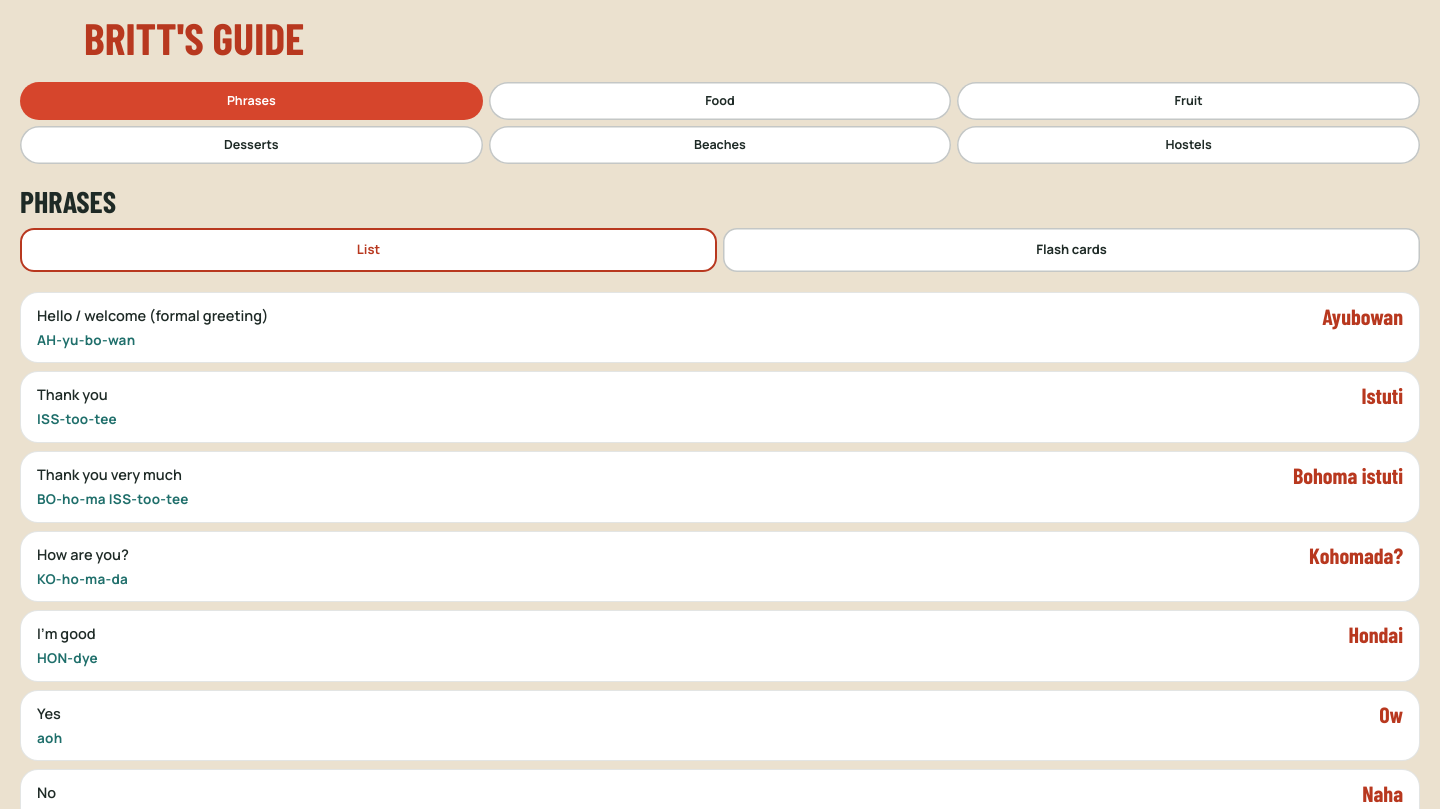
Scenario: Phrase flash cards › survives blocked storage
Click the button "Phrases": (251, 101) 20,82 -> 483,120
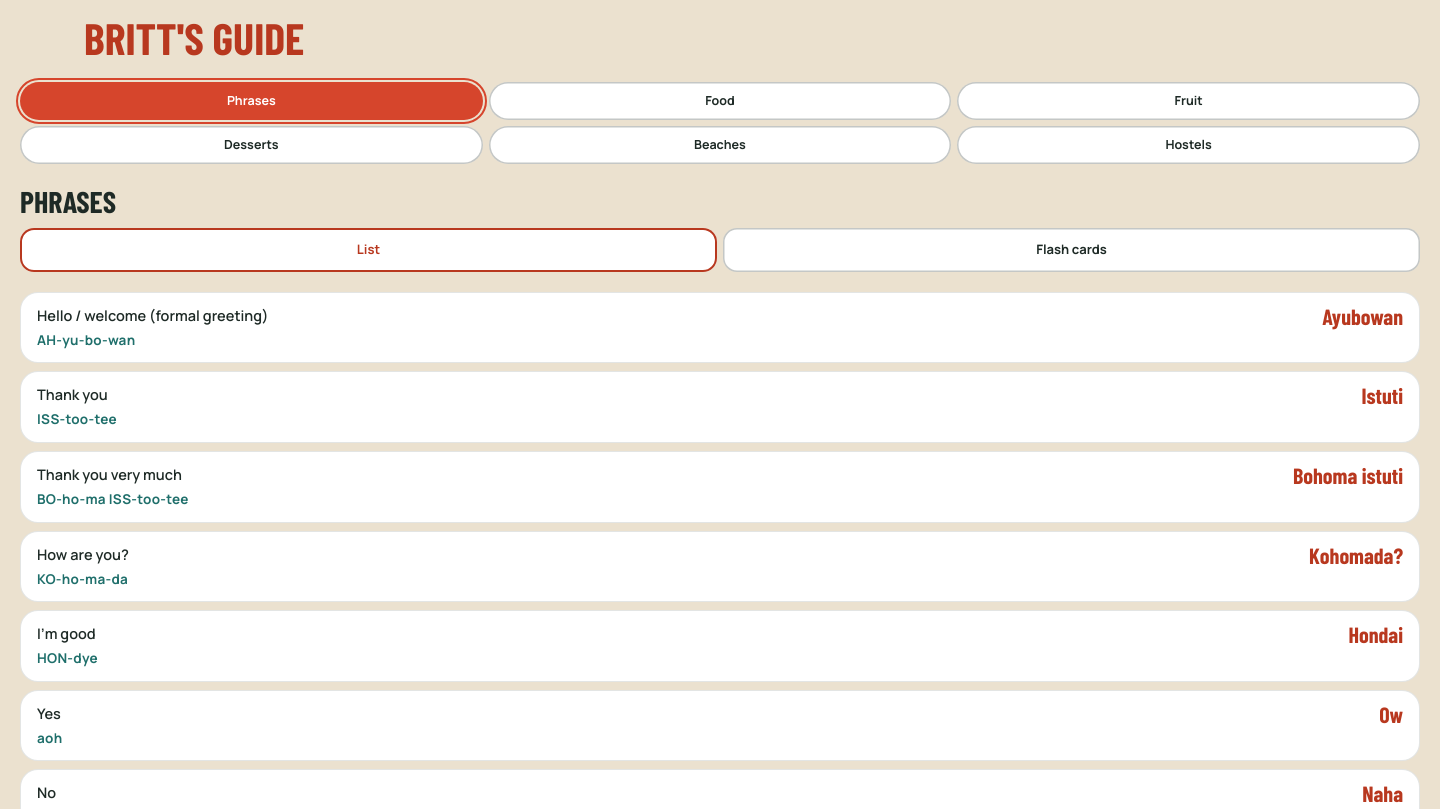
Click the button "Flash cards": (1072, 250) 723,228 -> 1420,272
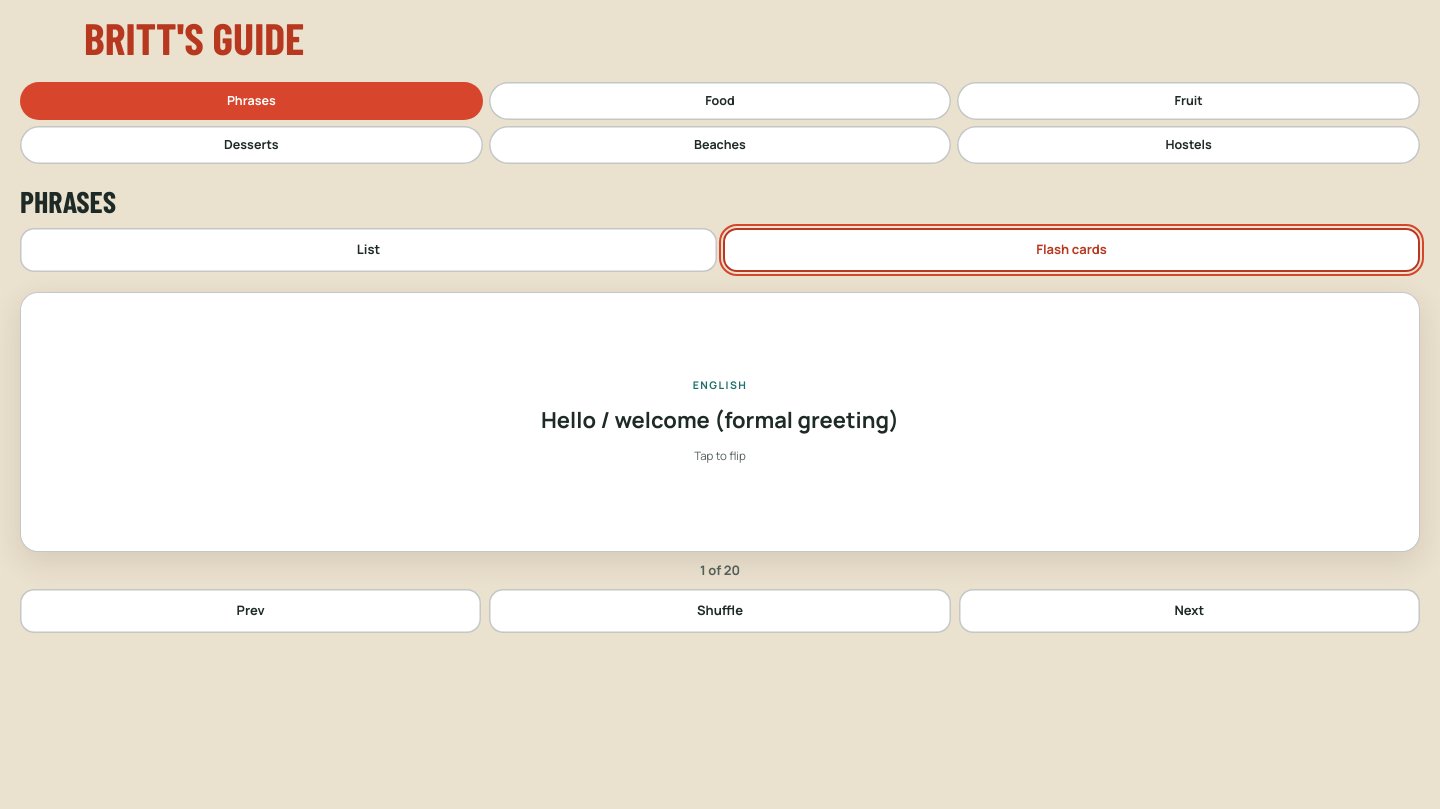
Result: the button "English Hello / welcome (formal greeting) Tap to flip" is shown at 20,292 -> 1420,552
